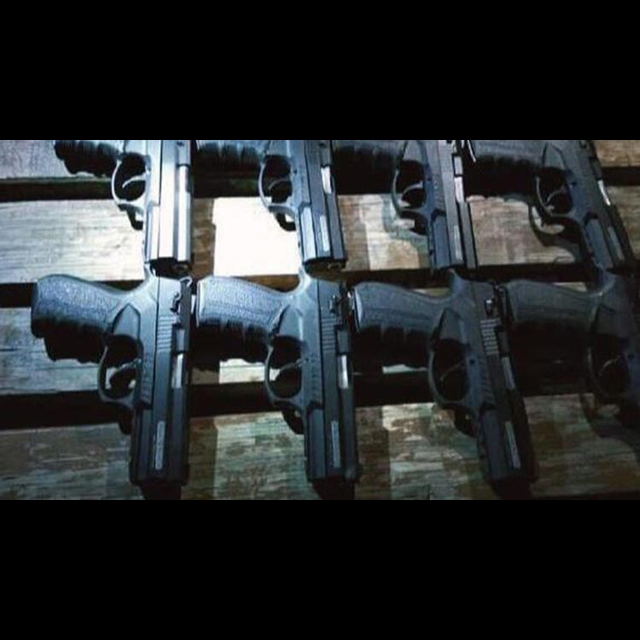SILAH: (352, 270, 538, 485), (27, 266, 194, 493), (194, 270, 358, 497)
